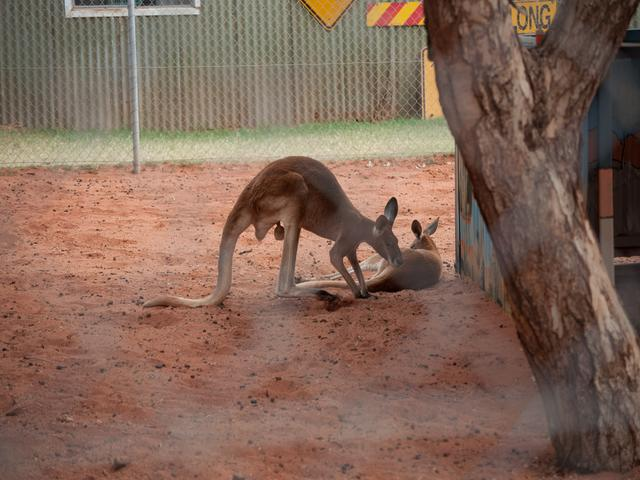kangaroo: (233, 131, 441, 305)
